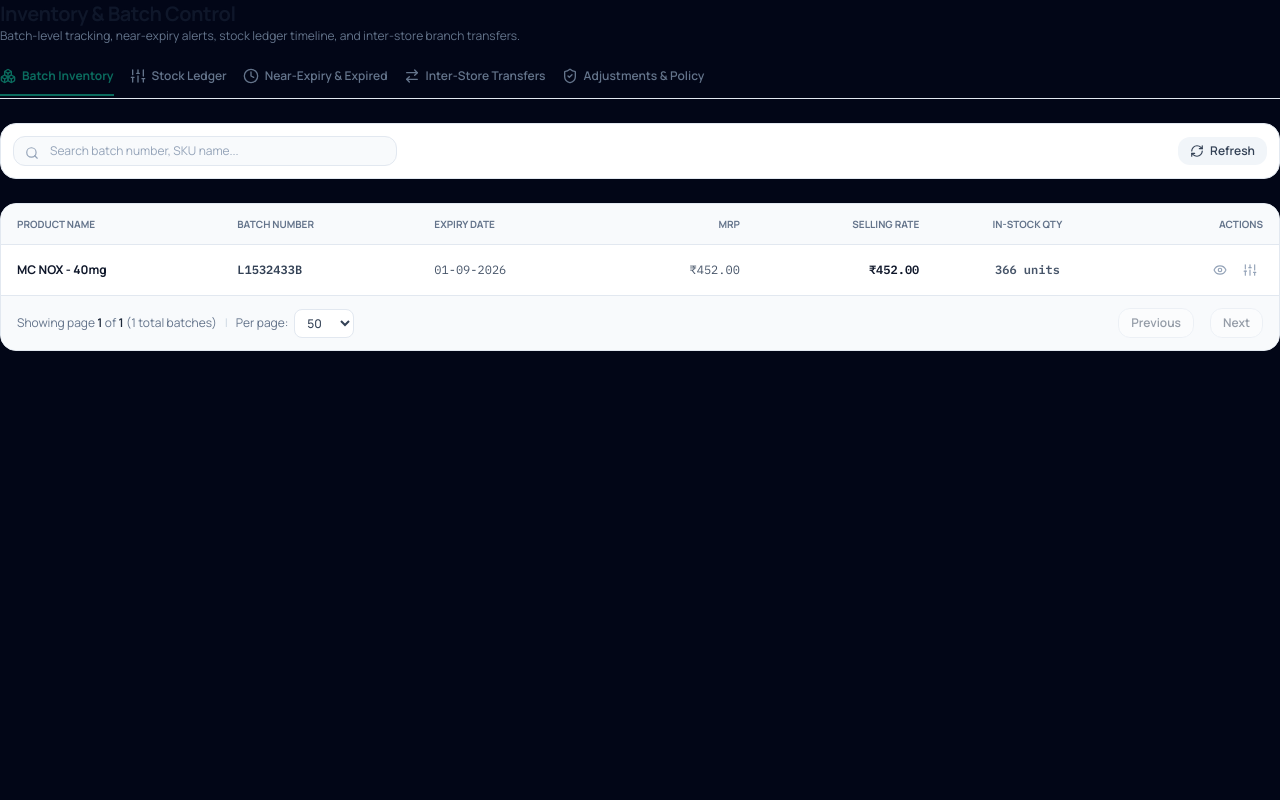
Test case: Inventory row actions › reads a near-expiry batch and the movement that left it there
What coordinates should you click on to do the following:
click the button "Near-Expiry & Expired"
I would click on:
 (315, 82)
Its box is [243,68,388,96].
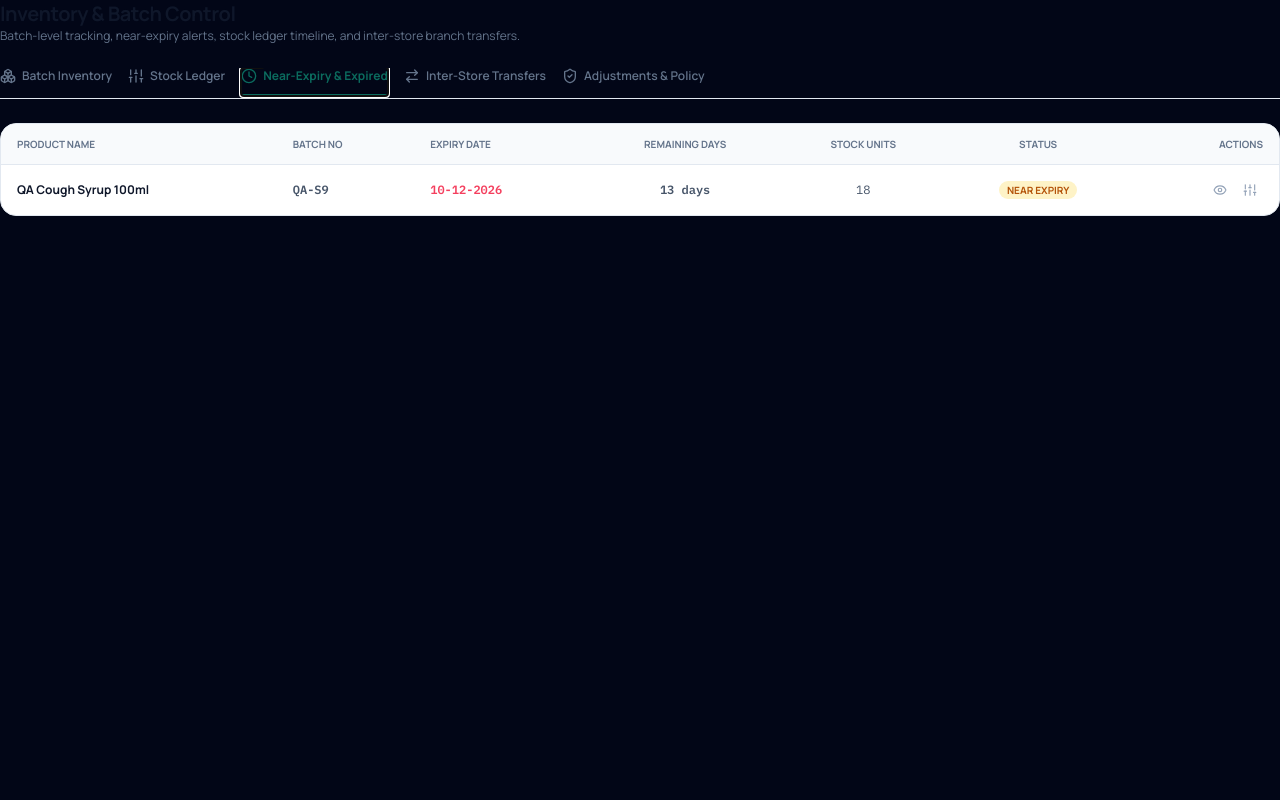
What coordinates should you click on to do the following:
click the button titled "View batch & product movement"
I would click on:
 (1220, 190)
Its box is [1207,177,1233,203].
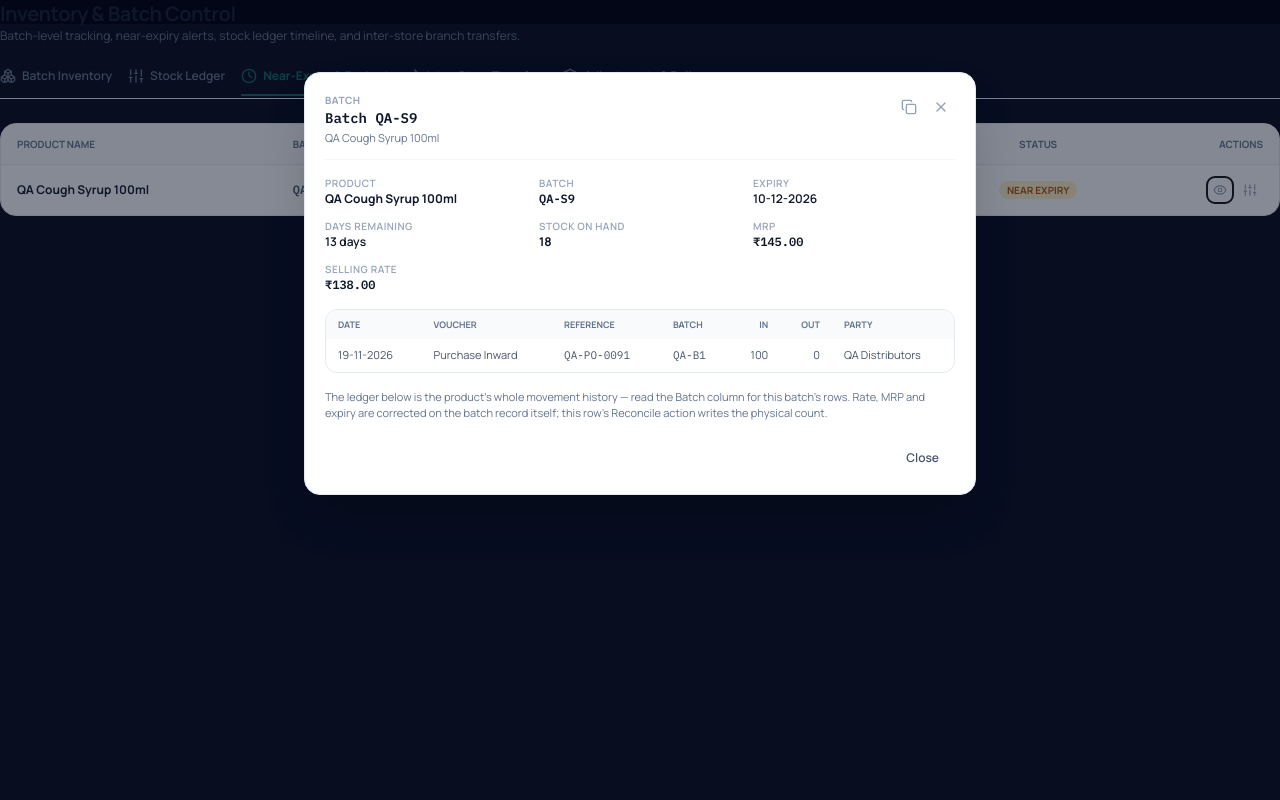
Check: the text "13 days" is shown, box [325,232,366,250]
Check: the text "QA-PO-0091" is shown, box [552,339,661,372]
